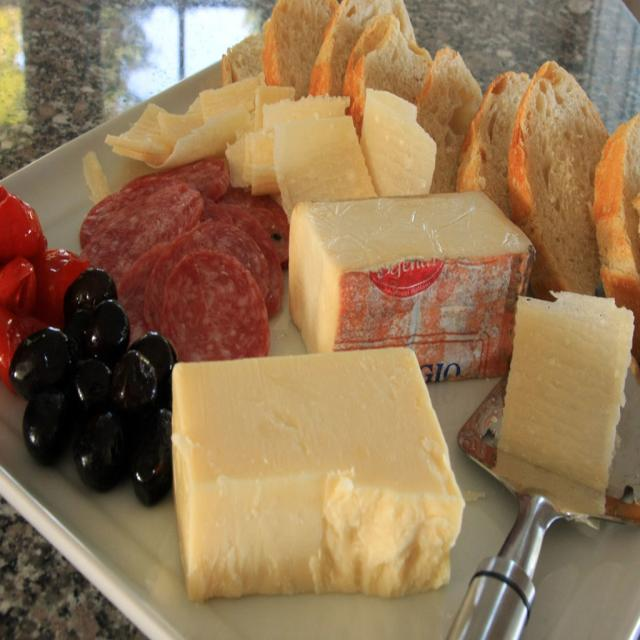Cheese: (172, 343, 466, 598), (107, 63, 440, 218), (286, 185, 539, 383), (498, 288, 632, 487)
